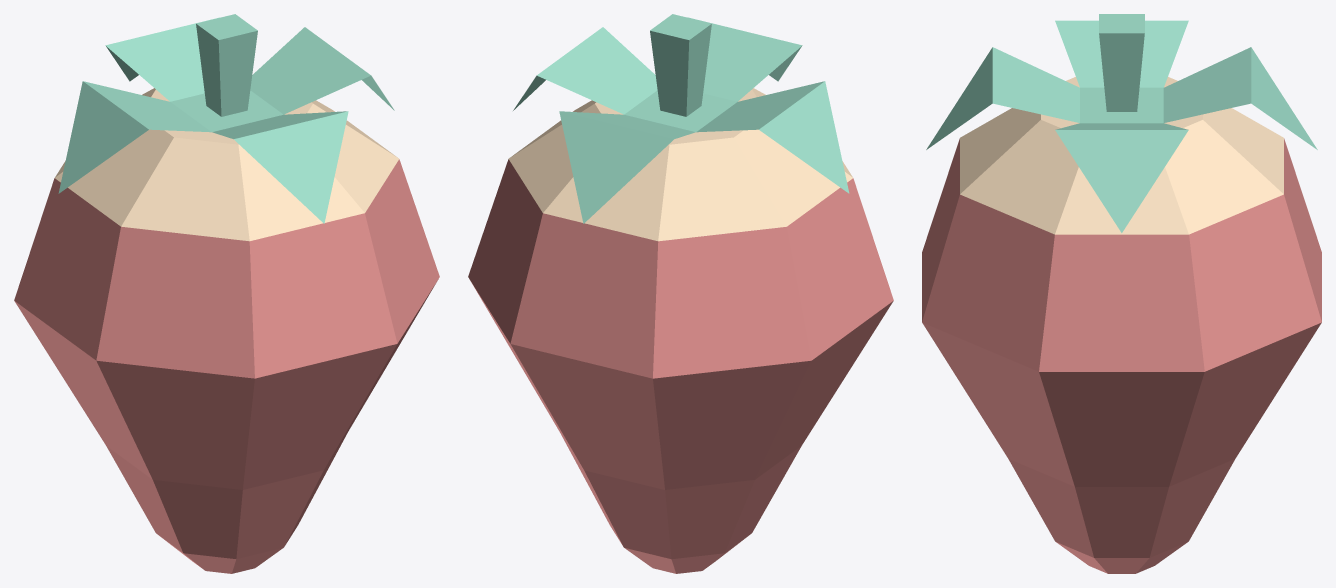
The model's file is strawberry.glb.
The picture shows the model from 3 angles, left to right: view 1: azimuth 30°, elevation 25°; view 2: azimuth 150°, elevation 25°; view 3: azimuth 270°, elevation 25°; orthographic projection.
Parts seen in each view (by area): view 1: strawberry; view 2: strawberry; view 3: strawberry.
Part boxes in pixels (<box>): strawberry: <box>14,14,439,573</box>; strawberry: <box>468,14,893,573</box>; strawberry: <box>922,14,1321,573</box>.
Bounding box in the file's own units: 0.1196 × 0.177 × 0.1196.
